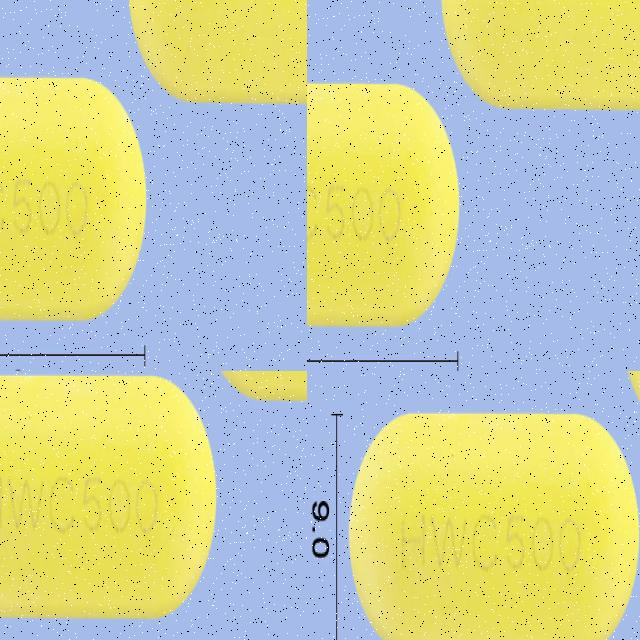Amocla 375mg: (0, 117, 186, 371)
Citro: (41, 374, 279, 640)
Clacid: (345, 401, 640, 640)
Clacin -500mg: (307, 154, 511, 371)
